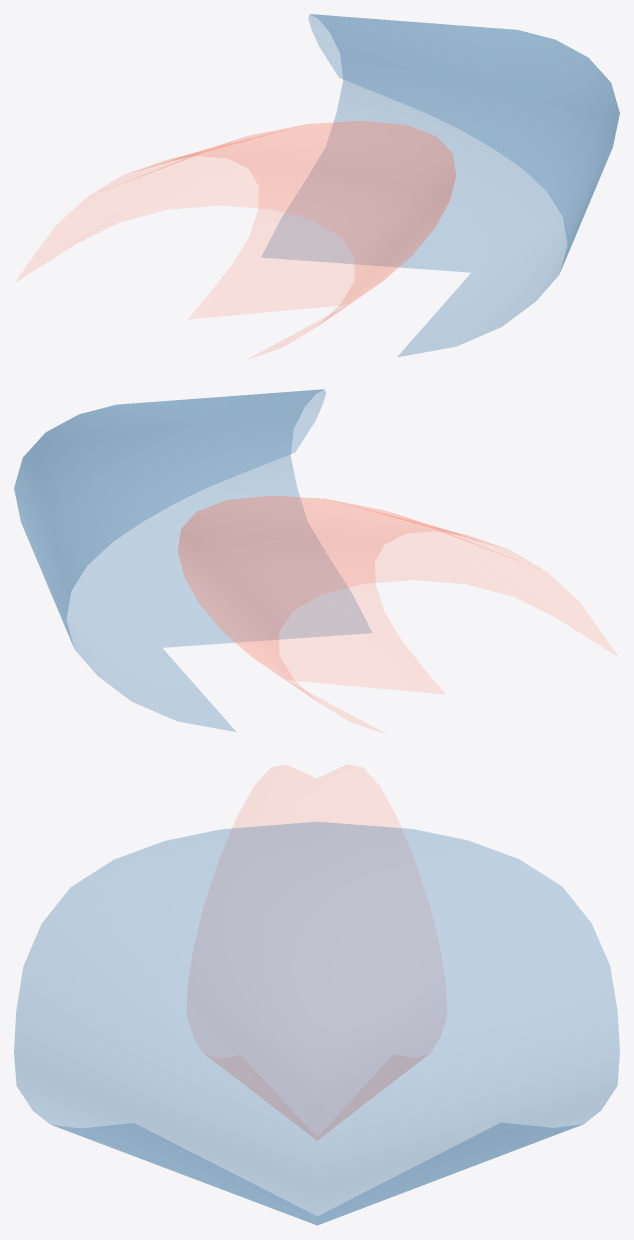
File: SM_WindGust.FBX
3 renders of one model, top to bottom at view 1: azimuth 30°, elevation 25°; view 2: azimuth 150°, elevation 25°; view 3: azimuth 270°, elevation 25°, orthographic. The views are drawn at different scales.
Visible parts, largest first — view 1: SM_WindGust; view 2: SM_WindGust; view 3: SM_WindGust.
Part boxes in pixels (<box>): SM_WindGust: <box>16,14,619,358</box>; SM_WindGust: <box>14,389,617,733</box>; SM_WindGust: <box>14,765,619,1225</box>.
Size of the model in its own units: 259 by 166 by 103.
